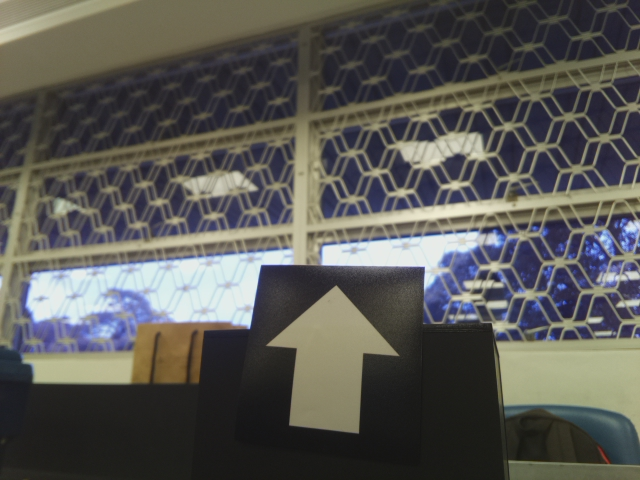up: (258, 280, 407, 443)
